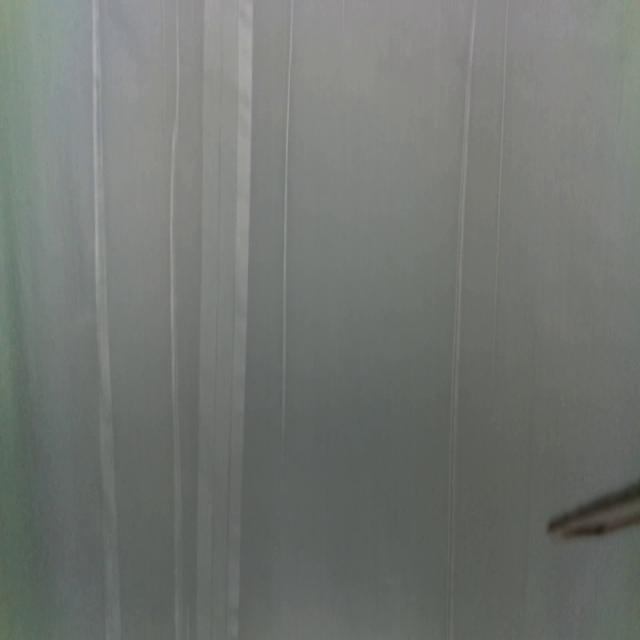crease: (194, 0, 254, 639), (444, 0, 478, 640), (90, 0, 122, 640), (169, 4, 185, 640), (490, 0, 509, 390), (280, 0, 294, 452)
